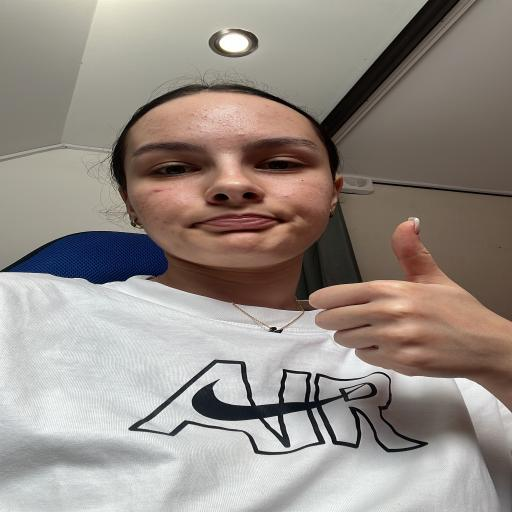marija: (121, 90, 338, 266)
